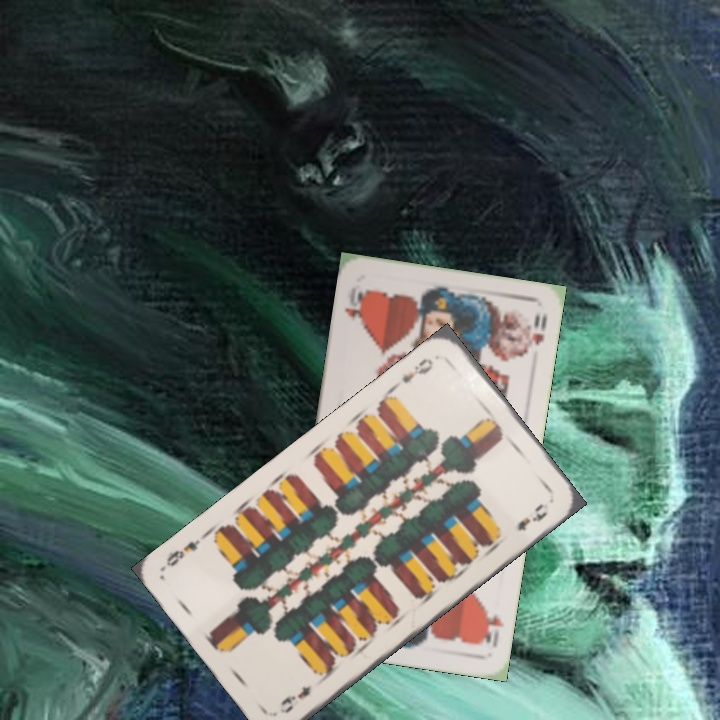E9: (389, 354, 436, 392), (276, 682, 314, 717)
HO: (476, 601, 507, 650), (340, 283, 370, 328)
